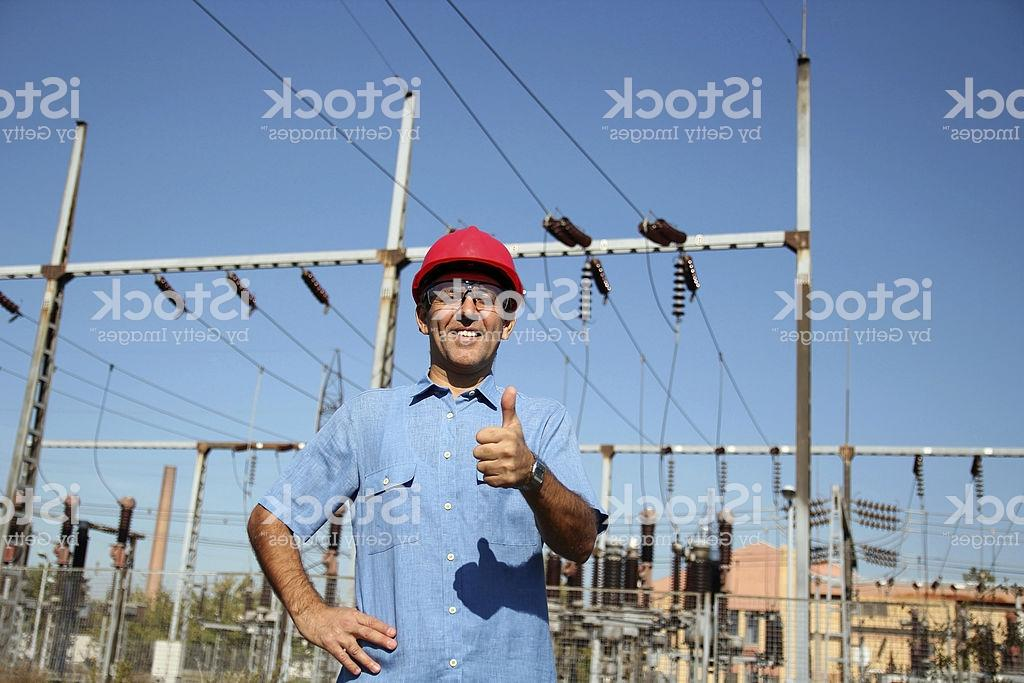thumbsup: (471, 386, 520, 488)
